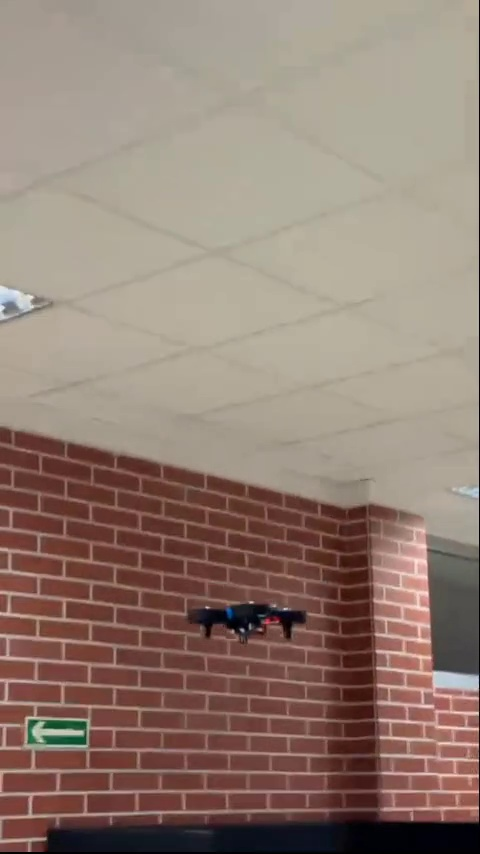drone: (183, 604, 309, 646)
